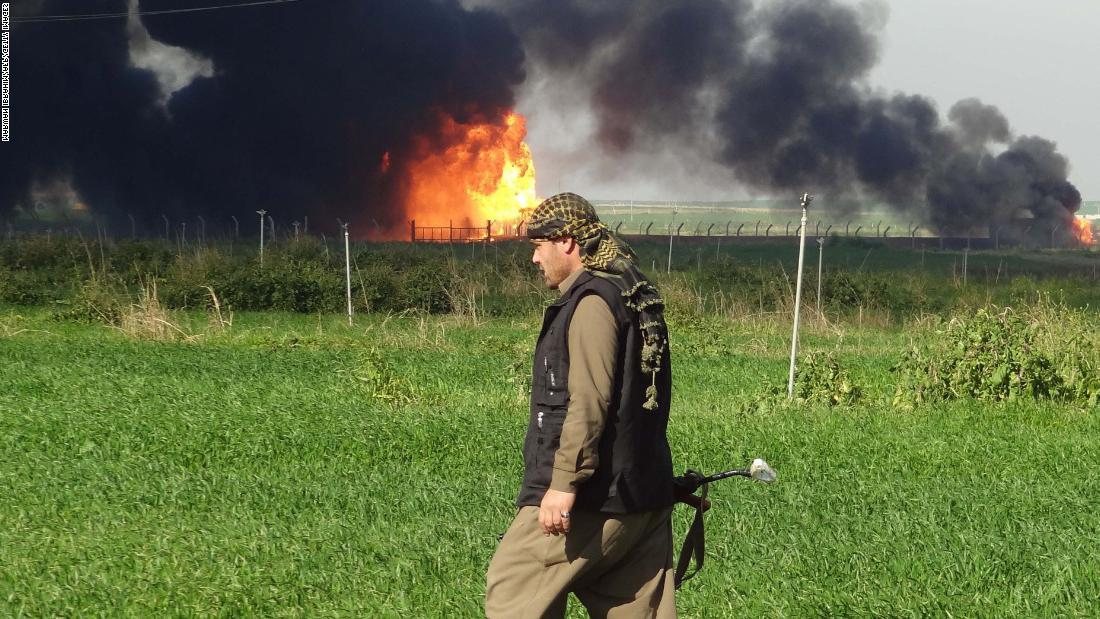Fire: (384, 107, 548, 241), (1072, 216, 1096, 248)
